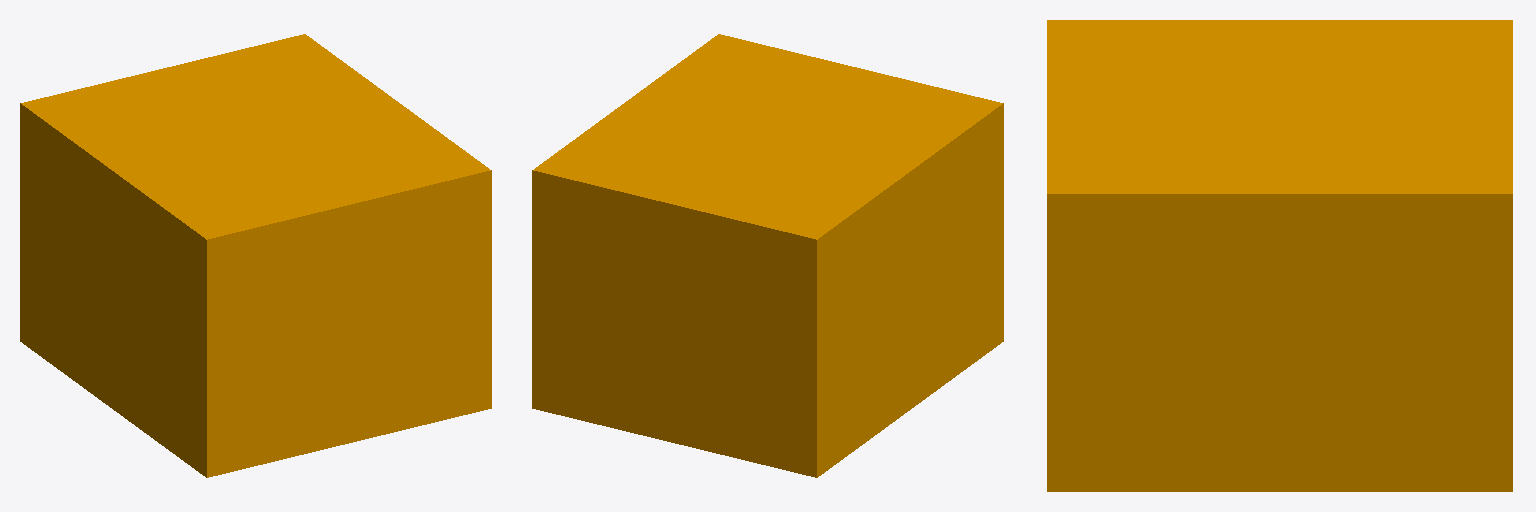
robot.urdf — 2x2:
<?xml version='1.0' encoding='UTF-8'?>
<robot name="2x2">
  <link name="base_link">
    <inertial>
      <origin xyz="0.0 0.0 0.0" rpy="0.0 0.0 0.0"/>
      <mass value="0.01"/>
      <inertia ixx="0.1" ixy="0.0" ixz="0.0" iyy="0.1" iyz="0.0" izz="0.1"/>
    </inertial>
    <visual>
      <geometry>
        <box size="0.015 0.017 0.012"/>
      </geometry>
      <material name=""/>
      <origin xyz="0.0 0.0 0.0" rpy="0.0 0.0 0.0"/>
    </visual>
    <collision>
      <geometry>
        <box size="0.015 0.017 0.012"/>
      </geometry>
      <origin xyz="0.0 0.0 0.0" rpy="0.0 0.0 0.0"/>
    </collision>
  </link>
  <material name="">
    <color rgba="1. 1. 1. 1."/>
  </material>
  <contact>
    <lateral_friction value="1.0"/>
    <rolling_friction value="0.0"/>
    <contact_cfm value="0.0"/>
    <contact_erp value="1.0"/>
  </contact>
</robot>

--- Render facts (derived) ---
3 views of the same robot in one strip: view 1: azimuth 30°, elevation 25°; view 2: azimuth 150°, elevation 25°; view 3: azimuth 270°, elevation 25° (orthographic).
Model 2x2 with 1 links and 0 joints (none), rooted at base_link, posed every joint at zero.
Links seen in each view (by area): view 1: base_link; view 2: base_link; view 3: base_link.
Link boxes in pixels (bbox=[...]): base_link: bbox=[20, 34, 491, 477]; base_link: bbox=[532, 34, 1003, 477]; base_link: bbox=[1047, 20, 1512, 491].
Bounding box of the posed robot: 0.015 × 0.017 × 0.012 m (x, y, z).
Geometry: primitives only (box / cylinder / sphere), no mesh files.